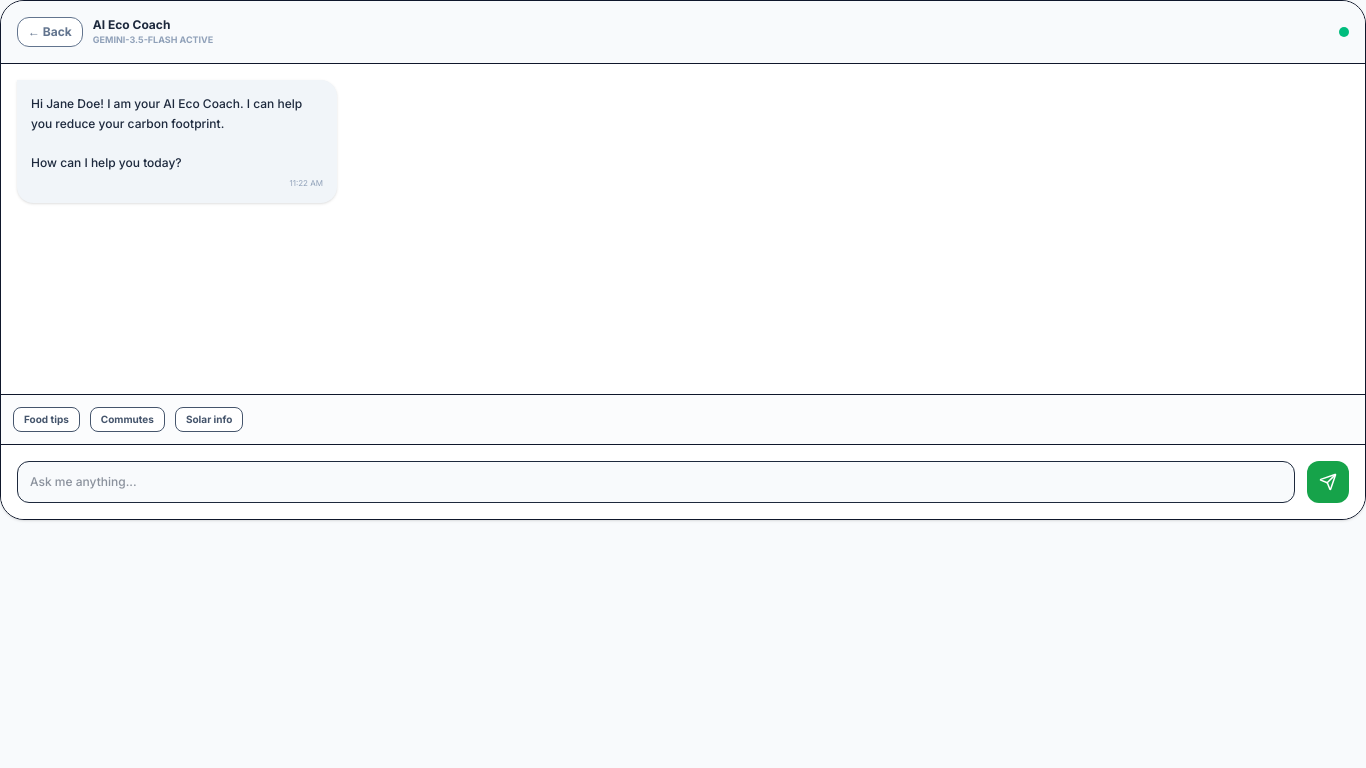
Scenario: AI Insights & Coach Workflow Integration Flow › renders AI Coach View, handles chat interactions, and displays localized recommendations
Expected: the heading "AI Eco Coach" is shown, [93, 17, 170, 32]
Type "How can I save carbon on food?" into the field with placeholder "Ask me anything..." at (656, 482), box [17, 461, 1295, 503]
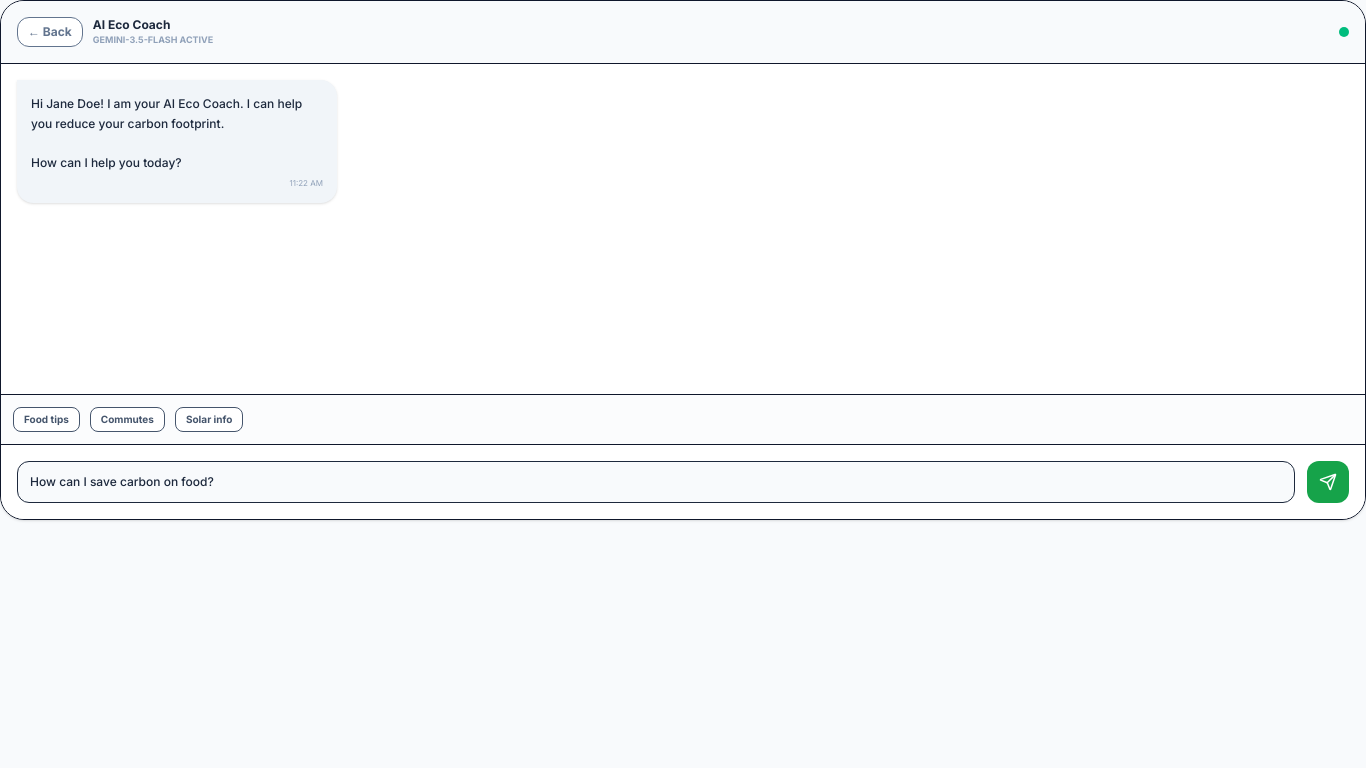
Click the button named "Send" at (1328, 482), box [1307, 461, 1349, 503]
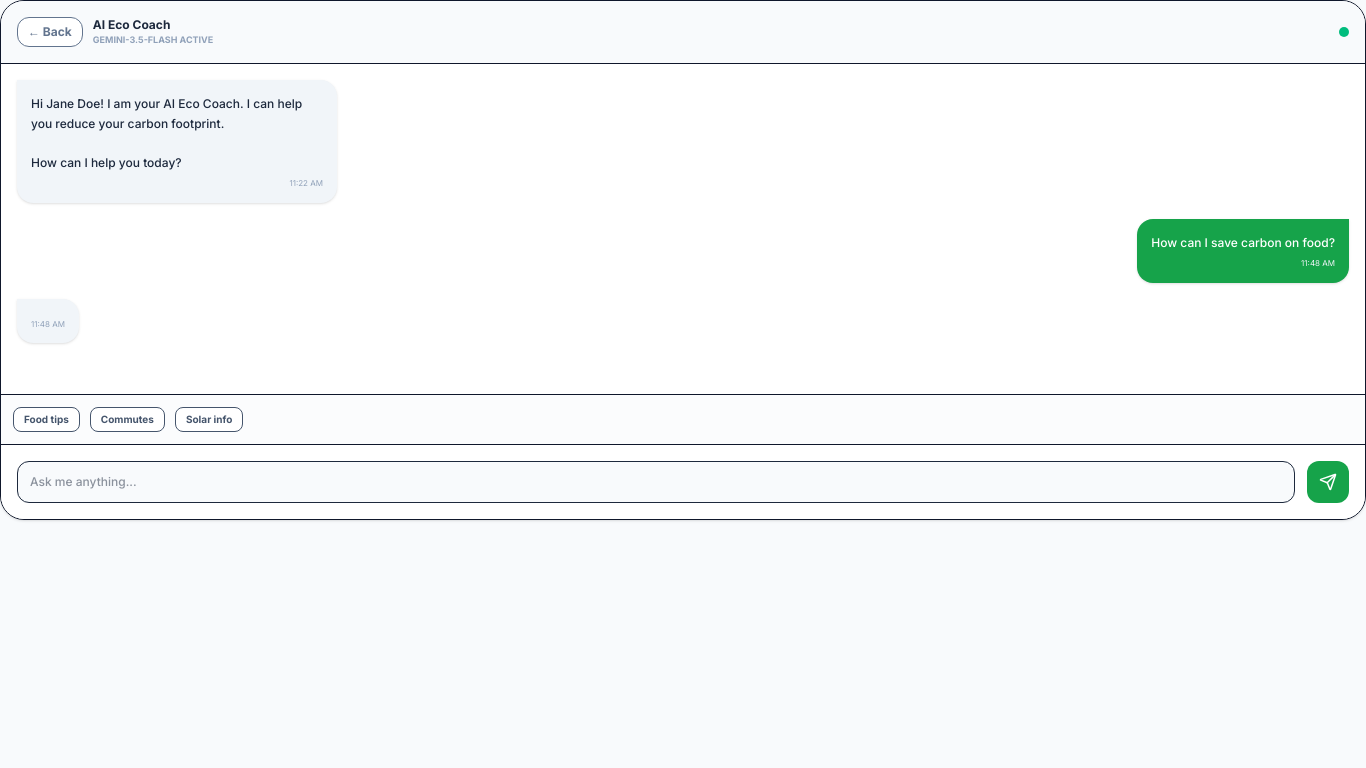
Expected: the text "How can I save carbon on food?" is shown, [1151, 233, 1335, 252]
